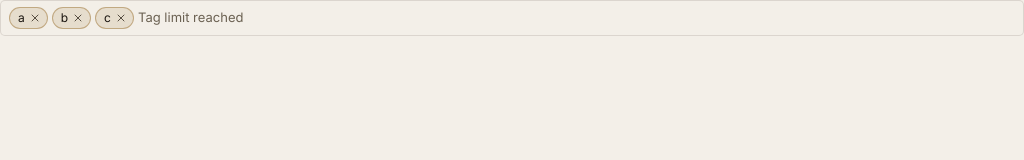
TagInput › removes tags with the chip button or Backspace and respects the limit
expect the field named "Tags" is disabled: met, box [138,6,1015,30]
Click the button named "Remove tag b" at [78, 18], box [70,10,86,26]
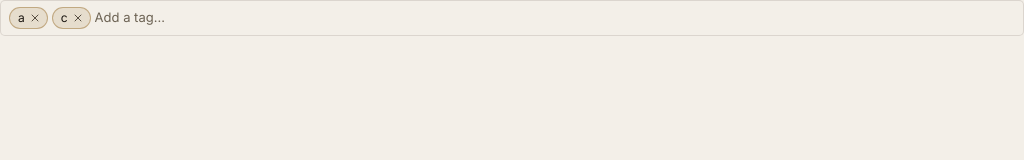
Press Backspace in the field named "Tags", box [95,6,1015,30]
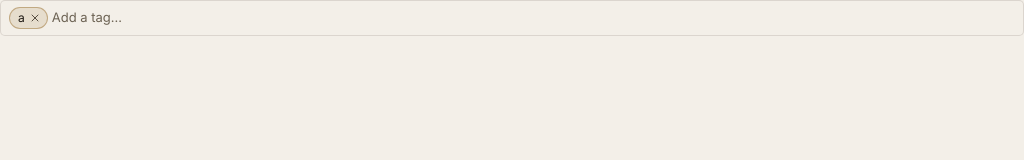
expect the text "b" is not shown: met
expect the text "c" is gone: met
